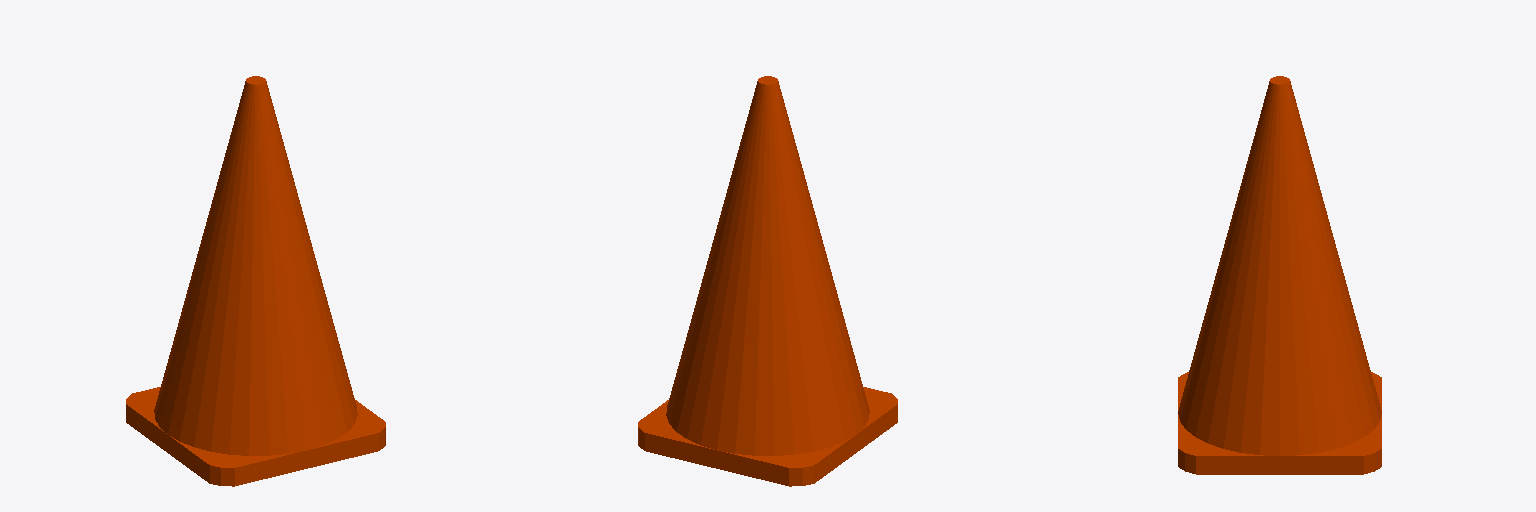
The model's file is BkickCone.obj.
3 renders of one model, left to right at view 1: azimuth 30°, elevation 25°; view 2: azimuth 150°, elevation 25°; view 3: azimuth 270°, elevation 25°, orthographic.
Visible parts, largest first — view 1: Cube; view 2: Cube; view 3: Cube.
Boxes of the visible parts, x1=… form: Cube: x1=126, y1=76, x2=385, y2=486; Cube: x1=638, y1=76, x2=897, y2=486; Cube: x1=1178, y1=76, x2=1381, y2=474.
Bounding box in the file's own units: 1 × 1.9 × 1.